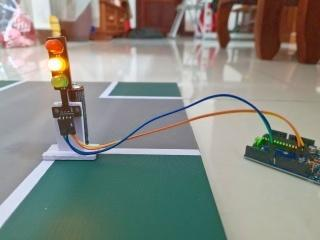yellow: (36, 30, 78, 97)
